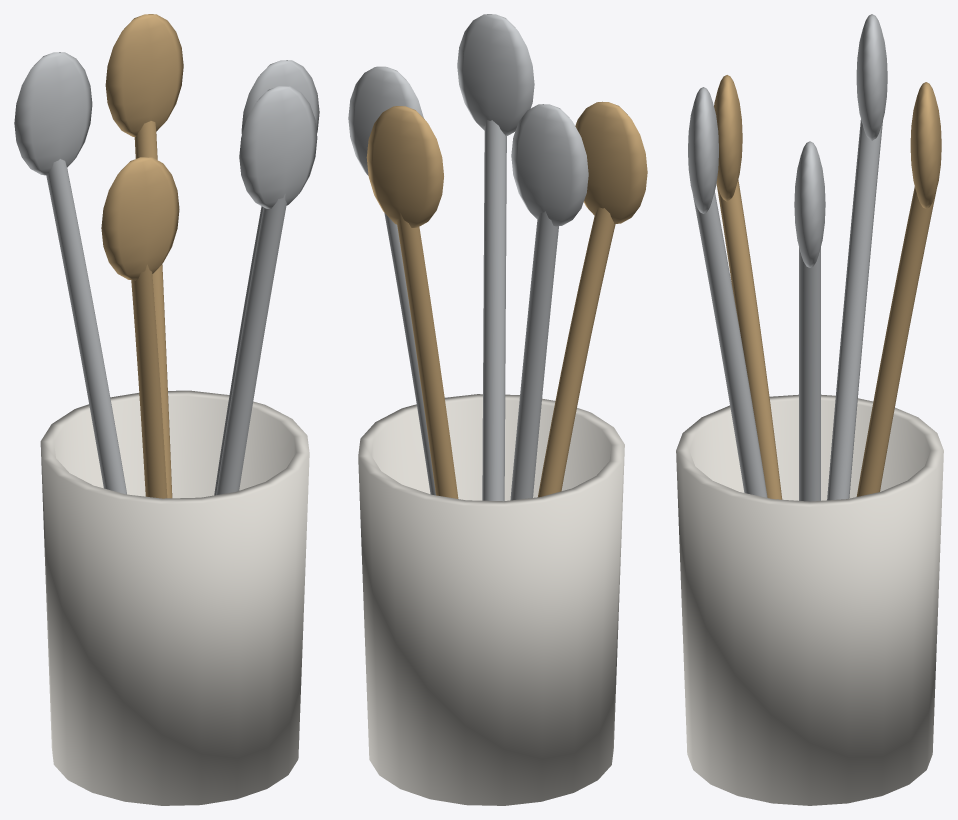
File: i_kit_13.glb
The picture shows the model from 3 angles, left to right: view 1: azimuth 30°, elevation 25°; view 2: azimuth 150°, elevation 25°; view 3: azimuth 270°, elevation 25°; orthographic projection.
Parts seen in each view (by area): view 1: o, o.005, o.008, o.010, o.006, o.004, o.009, o.007, o.003, o.002, o.001; view 2: o, o.009, o.004, o.006, o.010, o.007, o.005, o.008, o.003, o.002, o.001; view 3: o, o.005, o.003, o.009, o.007, o.001, o.002, o.004, o.006, o.010, o.008.
Boxes of the visible parts, box(x1,y1,x2,y2) form: o: box(40, 390, 309, 805); o.005: box(46, 159, 126, 494); o.008: box(101, 157, 179, 280); o.010: box(239, 86, 317, 208); o.006: box(14, 52, 92, 175); o.004: box(105, 14, 183, 136); o.009: box(216, 193, 286, 494); o.007: box(131, 264, 167, 498); o.003: box(134, 121, 172, 498); o.002: box(241, 60, 319, 133); o.001: box(214, 206, 263, 495); o: box(358, 394, 624, 805); o.009: box(482, 120, 506, 501); o.004: box(366, 106, 443, 227); o.006: box(511, 104, 588, 226); o.010: box(457, 14, 534, 135); o.007: box(538, 207, 615, 497); o.005: box(510, 211, 558, 500); o.008: box(575, 101, 647, 223); o.003: box(397, 213, 458, 498); o.002: box(348, 66, 423, 175); o.001: box(384, 213, 435, 495); o: box(676, 394, 943, 805); o.005: box(827, 119, 882, 500); o.003: box(856, 186, 936, 496); o.009: box(693, 191, 767, 497); o.007: box(716, 180, 782, 499); o.001: box(799, 247, 820, 501); o.002: box(794, 141, 825, 267); o.004: box(910, 82, 941, 208); o.006: box(856, 14, 887, 140); o.010: box(688, 87, 718, 213); o.008: box(714, 75, 742, 201).
Size of the model in its own units: 0.1403 by 0.3428 by 0.12.
